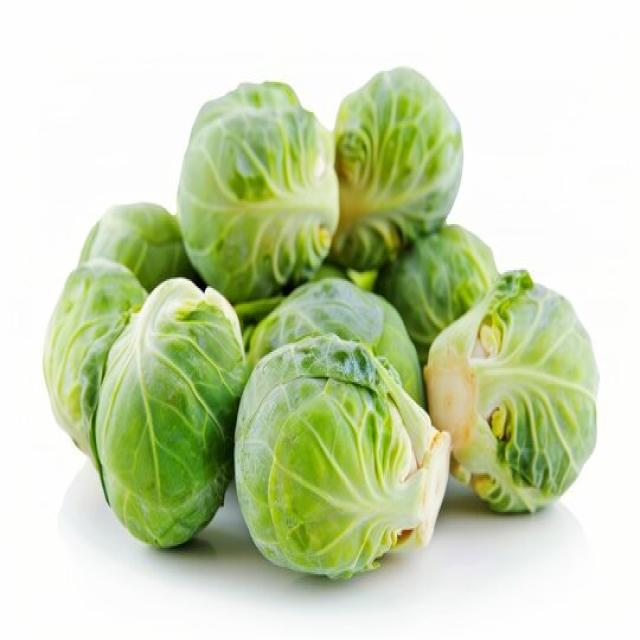Cabbage: (232, 331, 452, 581), (423, 266, 599, 514), (91, 276, 247, 550), (176, 78, 340, 302), (329, 64, 464, 270), (246, 276, 424, 410), (42, 256, 148, 460), (377, 222, 499, 359), (77, 199, 196, 292)
